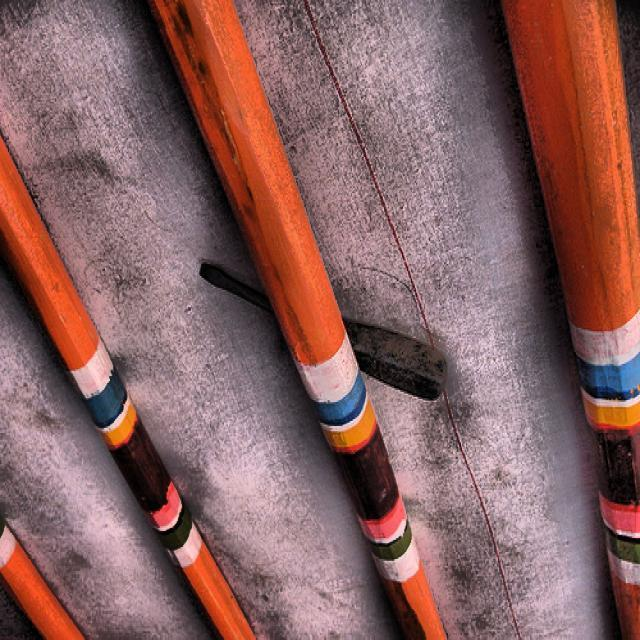screwdriver: (202, 264, 446, 402)
